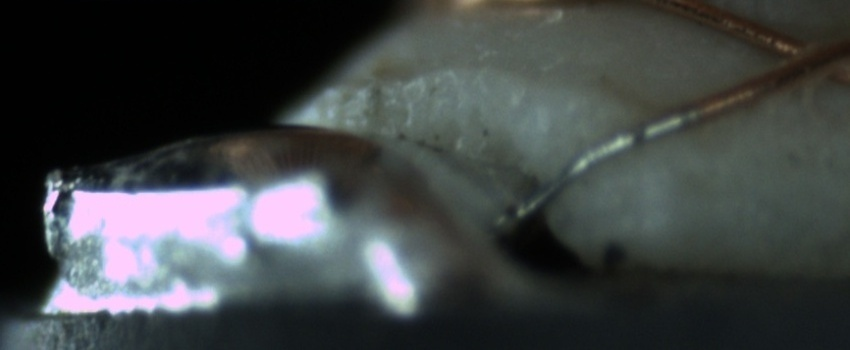CL: (755, 23, 847, 92)
TS: (505, 103, 693, 225)
TTCW: (504, 81, 735, 229)
